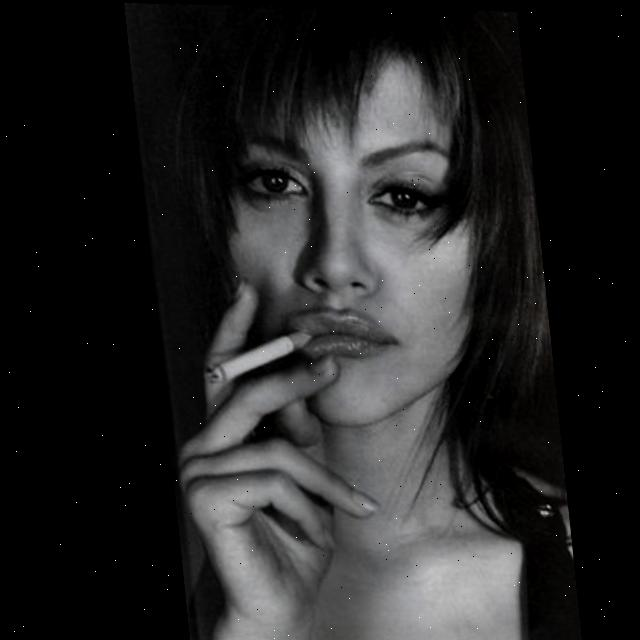cigarette: (194, 326, 307, 384)
